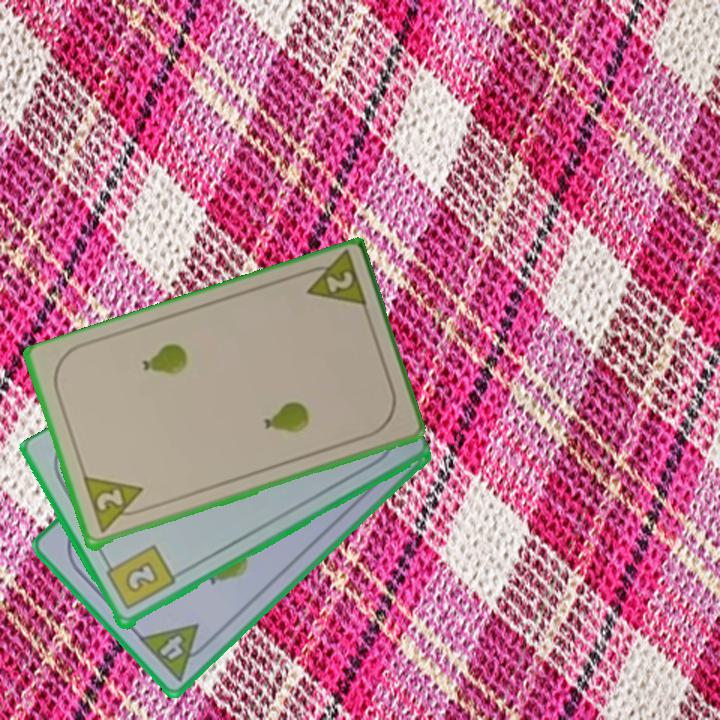2b: (101, 542, 178, 613)
2p: (295, 250, 370, 313), (79, 474, 152, 537)
4p: (135, 620, 216, 685)
